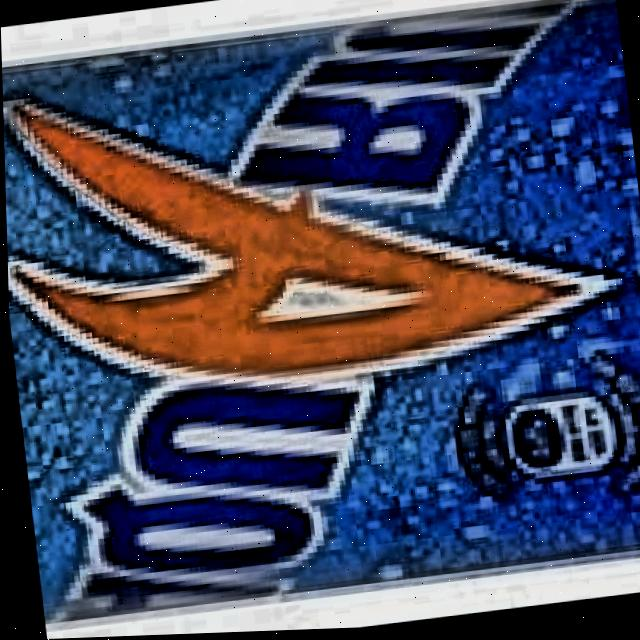metal: (1, 0, 640, 639)
